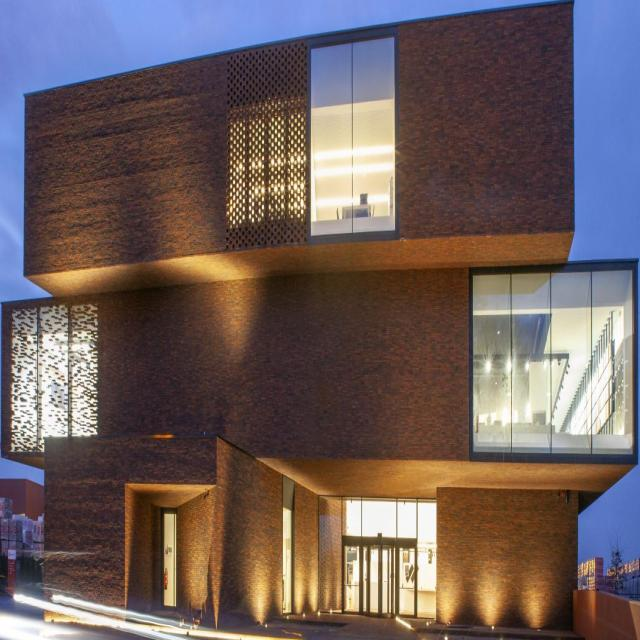door: (342, 539, 418, 614), (161, 507, 178, 610)
window: (472, 270, 634, 452), (309, 34, 395, 241), (319, 492, 437, 620), (283, 474, 293, 614)
